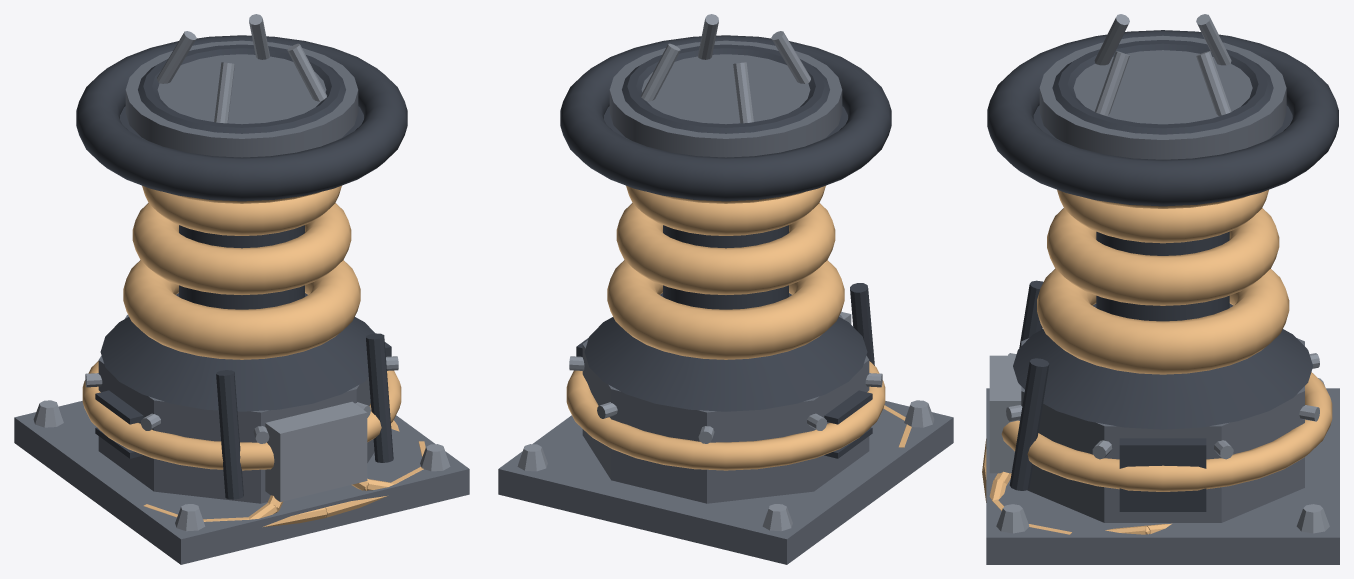
File: tower_tesla_base.glb
3 renders of one model, left to right at view 1: azimuth 30°, elevation 25°; view 2: azimuth 150°, elevation 25°; view 3: azimuth 270°, elevation 25°, orthographic. The views are drawn at different scales.
Parts seen in each view (by area): view 1: T_TFoot.001; view 2: T_TFoot.001; view 3: T_TFoot.001.
Boxes of the visible parts, <box> form: T_TFoot.001: <box>14,14,469,564</box>; T_TFoot.001: <box>498,14,953,564</box>; T_TFoot.001: <box>982,14,1339,564</box>.
Size of the model in its own units: 2.12 by 3.02 by 2.14.
